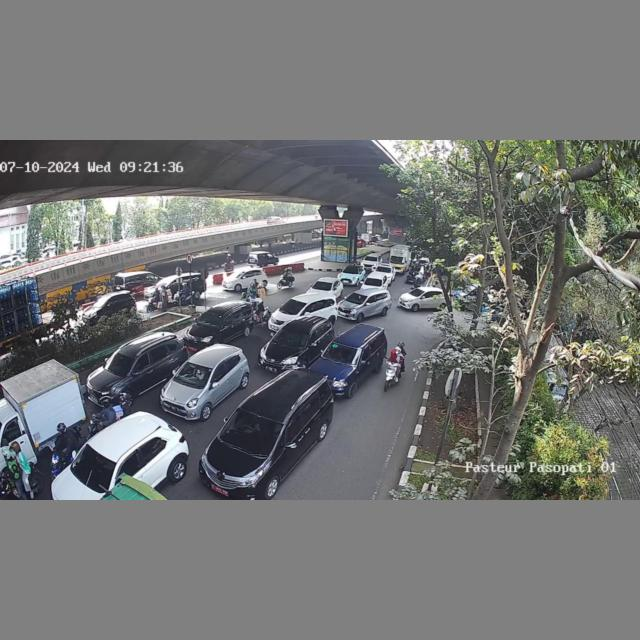windshield: (221, 408, 285, 457), (74, 444, 117, 486), (173, 361, 214, 384), (274, 325, 312, 349), (323, 342, 361, 365), (102, 351, 136, 376), (195, 310, 225, 325), (281, 298, 306, 313), (346, 291, 366, 304), (312, 282, 332, 289)
